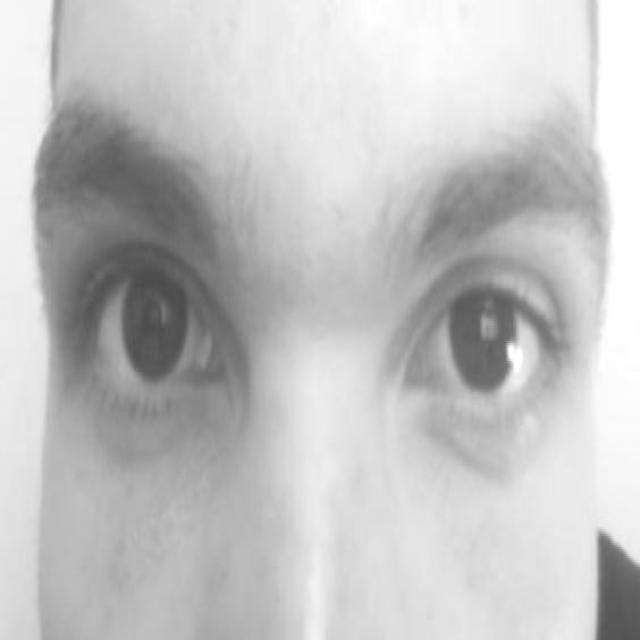real: (44, 150, 589, 500)
